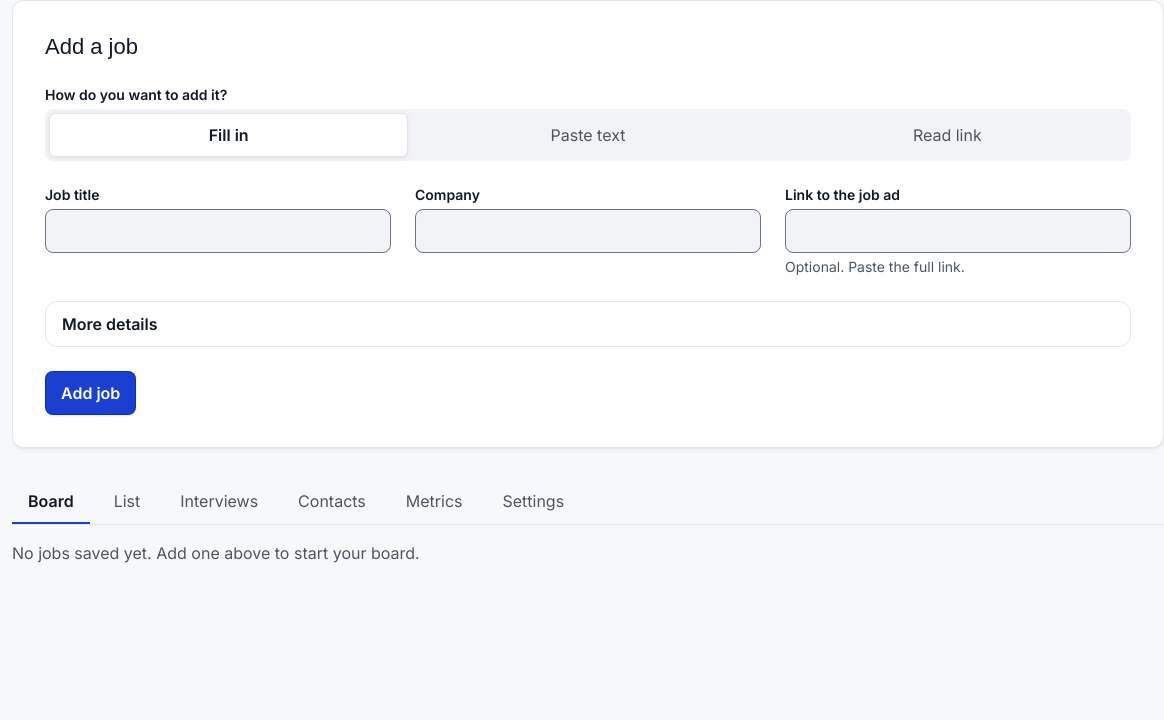
Test case: Interviews tab › asks for a job first when there are none
Expected: the button "Add job" is shown, left=45, top=370, right=136, bottom=414
Press the mouse on the tab "Interviews" at (219, 502), box left=164, top=480, right=274, bottom=524
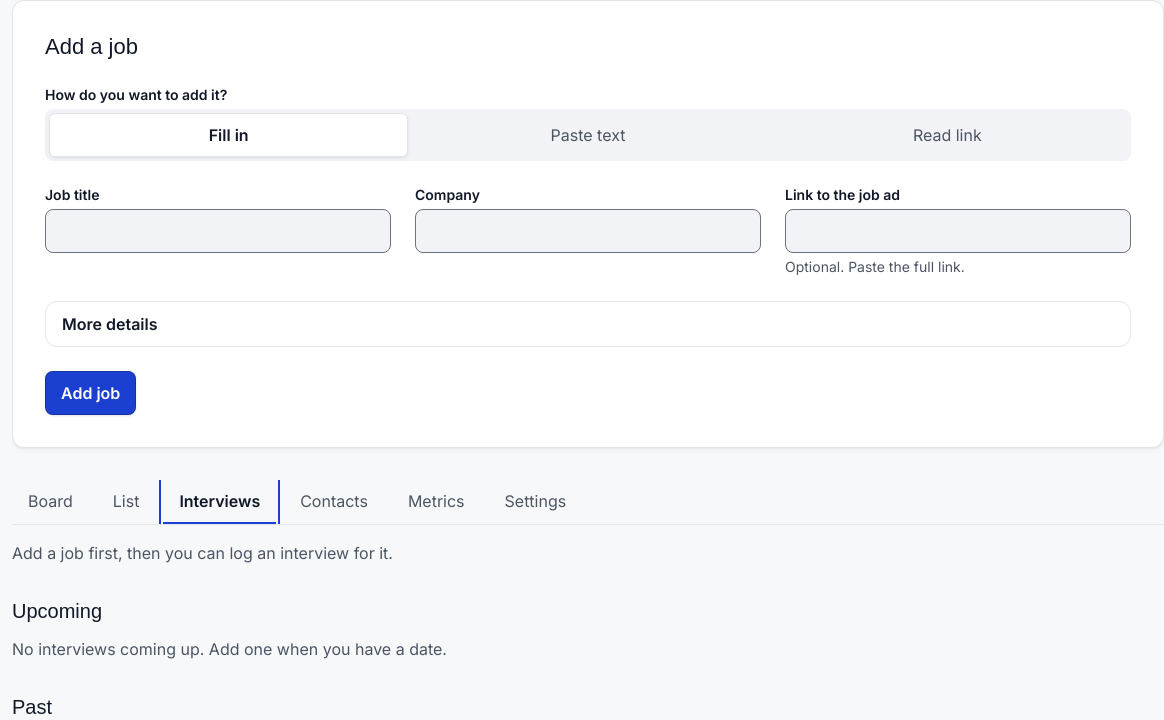
Now the text "Add a job first, then you can log an interview for it." is shown, box left=12, top=542, right=393, bottom=562
